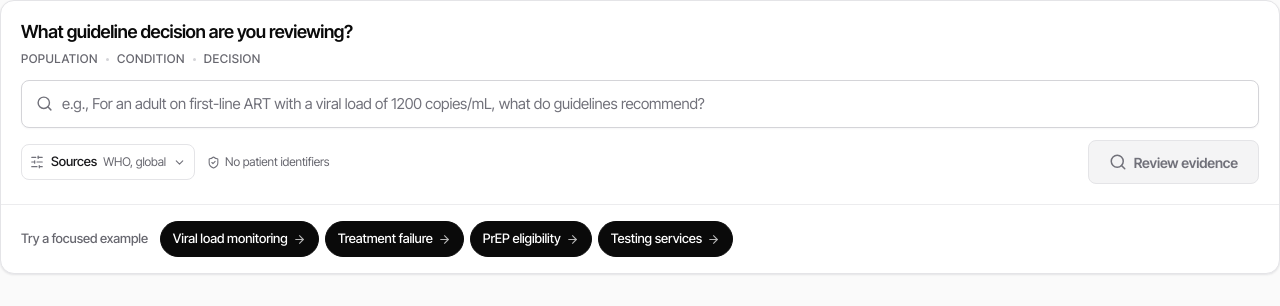
Test: QuestionComposer › communicates the evidence task and turns examples into editable starting points
Expected: the heading "What guideline decision are you reviewing?" is shown, [21, 21, 353, 42]
Expected: the text "Population" is shown, [21, 50, 98, 68]
Click the button "Viral load monitoring" at (239, 239), box [160, 221, 319, 257]
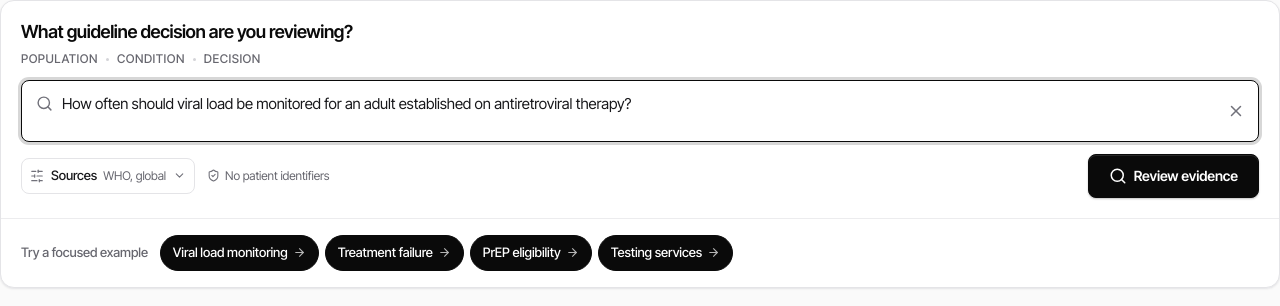
Result: the text box named "Guideline question" holds "How often should viral load be monitored for an adult established on antiretroviral therapy?" at [22, 80, 1258, 140]
Click the button named "Clear question" at (1236, 110), box [1223, 98, 1249, 124]
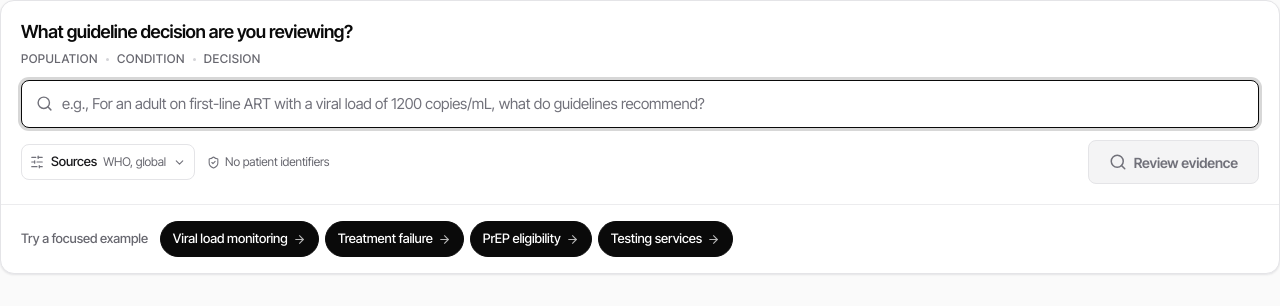
Result: the text box named "Guideline question" is empty at [22, 80, 1258, 127]
